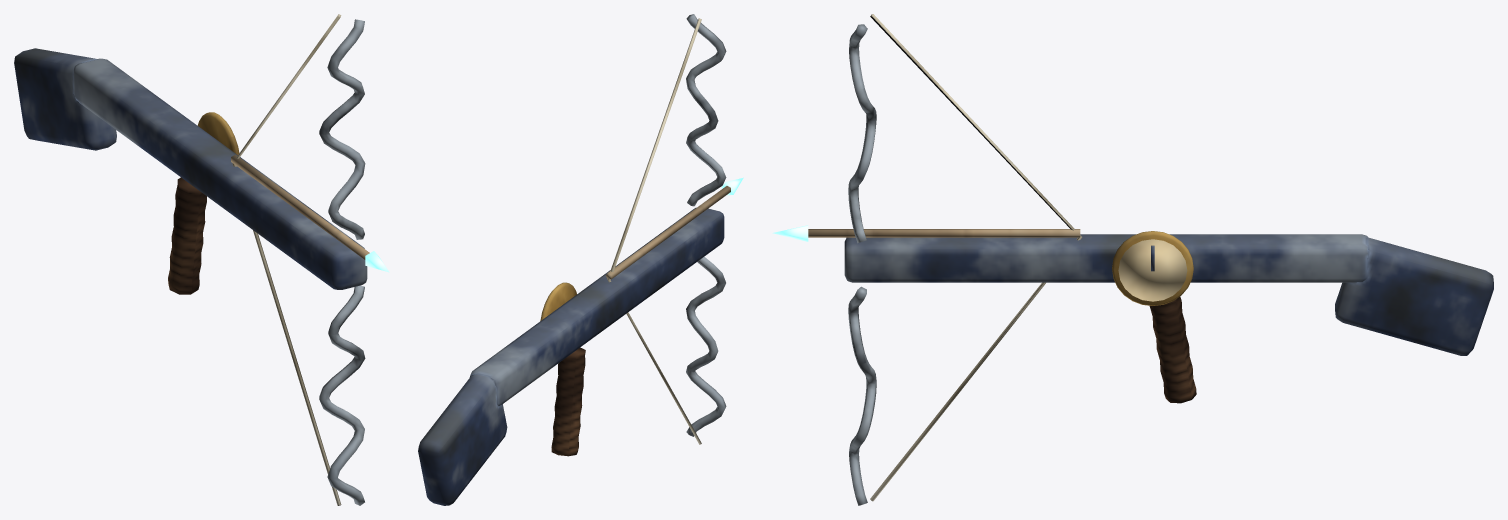
Rendered from ChronoCrossbow.fbx.
The picture shows the model from 3 angles, left to right: view 1: azimuth 30°, elevation 25°; view 2: azimuth 150°, elevation 25°; view 3: azimuth 270°, elevation 25°; orthographic projection. The views are drawn at different scales.
Parts seen in each view (by area): view 1: ChronoCrossbow; view 2: ChronoCrossbow; view 3: ChronoCrossbow.
Boxes of the visible parts, x1,y1,x2,y2 form: ChronoCrossbow: (14, 14, 389, 505); ChronoCrossbow: (418, 14, 743, 505); ChronoCrossbow: (772, 14, 1493, 505).
Bounding box in the file's own units: 0.0615 × 0.593 × 0.7961.
